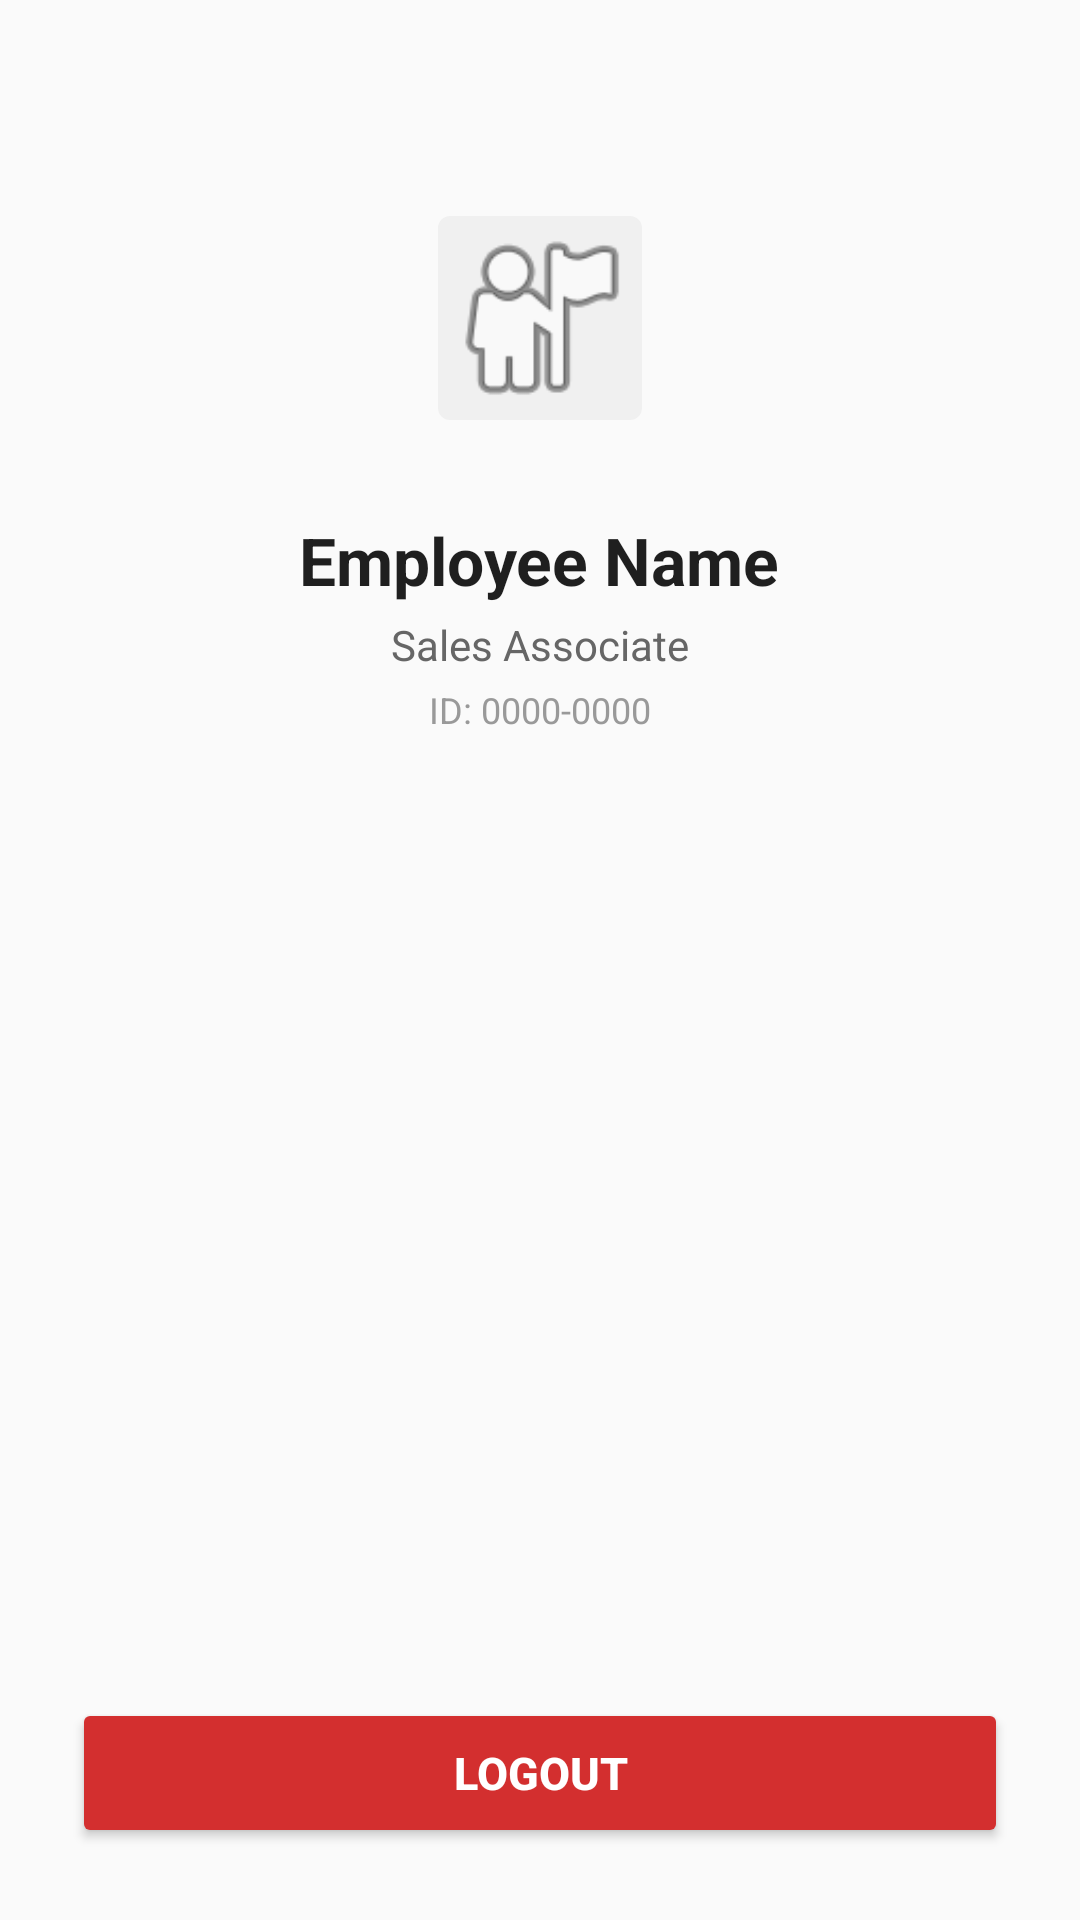

Screen size 1080x1920. Icon name, then its center in pixels as (x=x, y=y):
Employee Profile Picture: (x=540, y=318)
